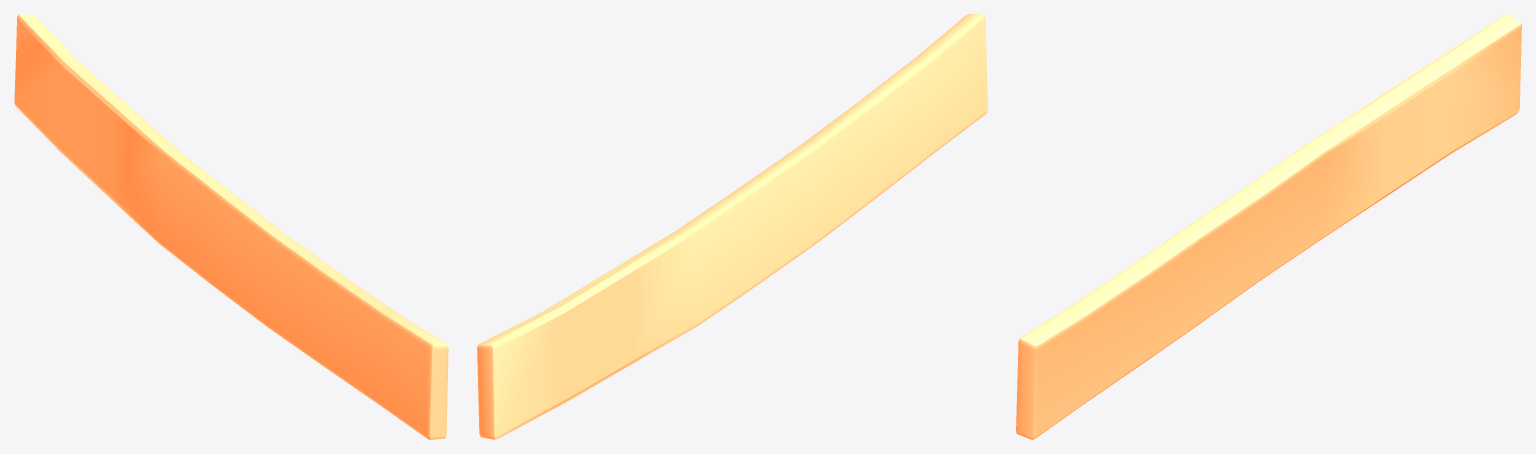
File: SM_Wall_MainDeck01.fbx
The picture shows the model from 3 angles, left to right: view 1: azimuth 30°, elevation 25°; view 2: azimuth 150°, elevation 25°; view 3: azimuth 330°, elevation 25°; orthographic projection. The views are drawn at different scales.
Visible parts, largest first — view 1: SM_Wall_MainDeck01; view 2: SM_Wall_MainDeck01; view 3: SM_Wall_MainDeck01.
Boxes of the visible parts, x1,y1,x2,y2 form: SM_Wall_MainDeck01: (14,14,448,439); SM_Wall_MainDeck01: (477,14,987,439); SM_Wall_MainDeck01: (1016,14,1521,439).
Bounding box in the file's own units: 51.98 × 787 × 101.
